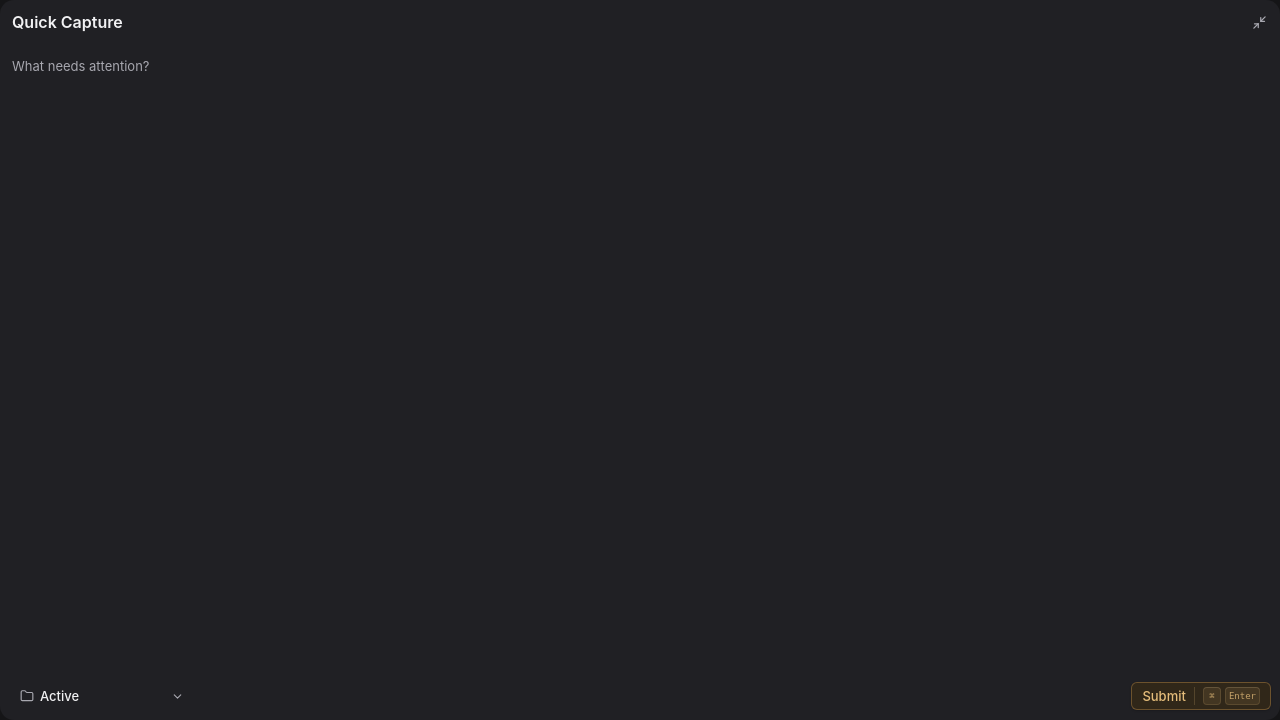
Test: QuickCaptureApp › closes_the_project_menu_before_hiding_the_window
Click the dropdown named "Project" at [102, 696], box [12,682,192,710]
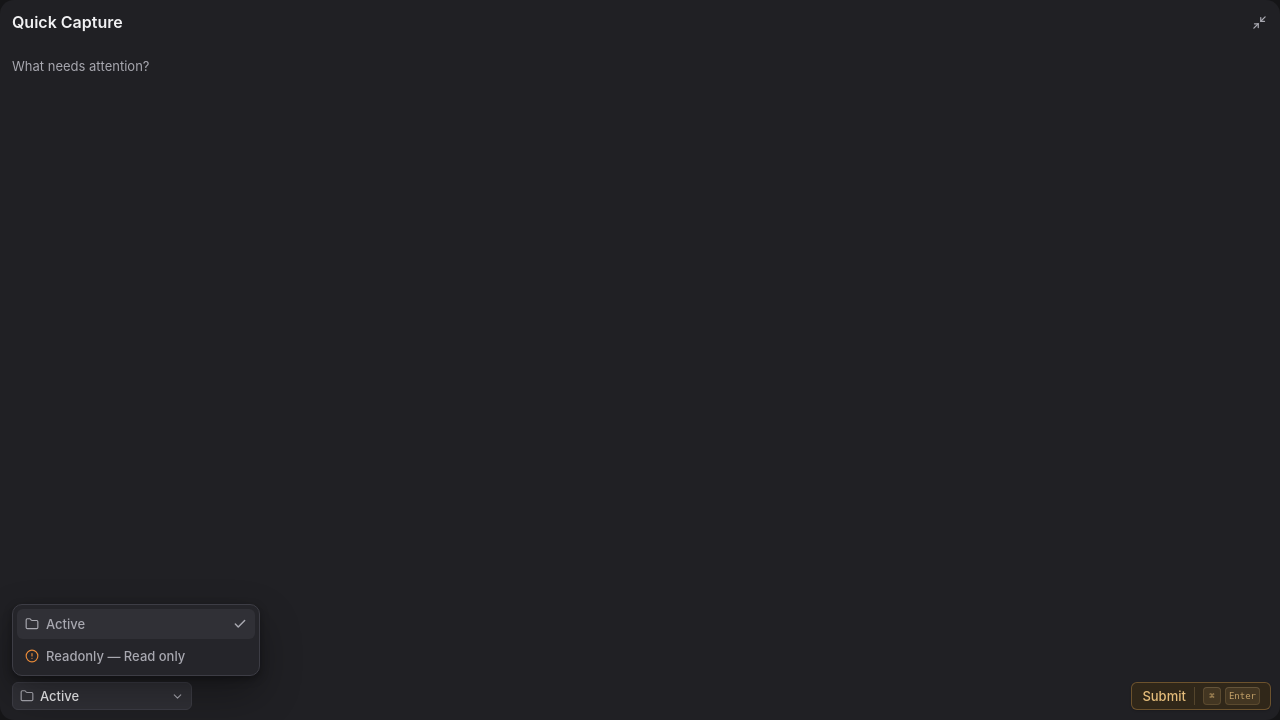
Expected: the list named "Project" is shown, [12,604,260,676]
Press Escape
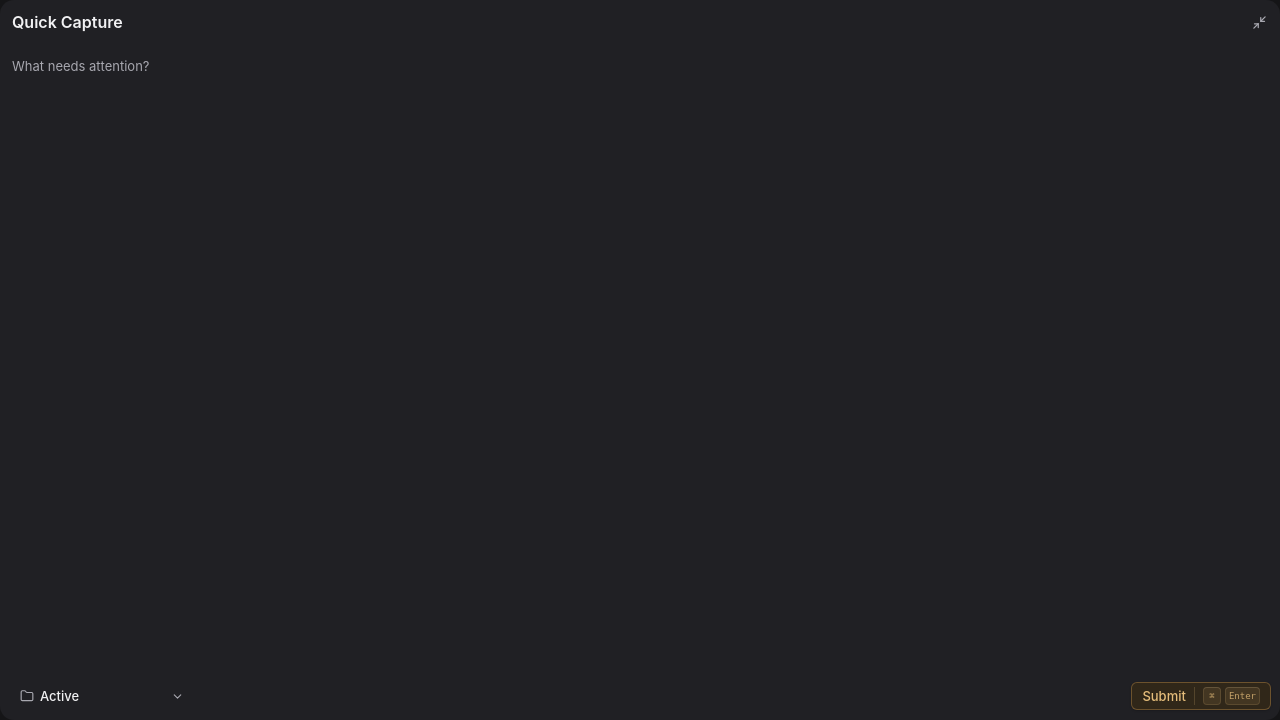
Expected: the list "Active Readonly — Read only" is gone
